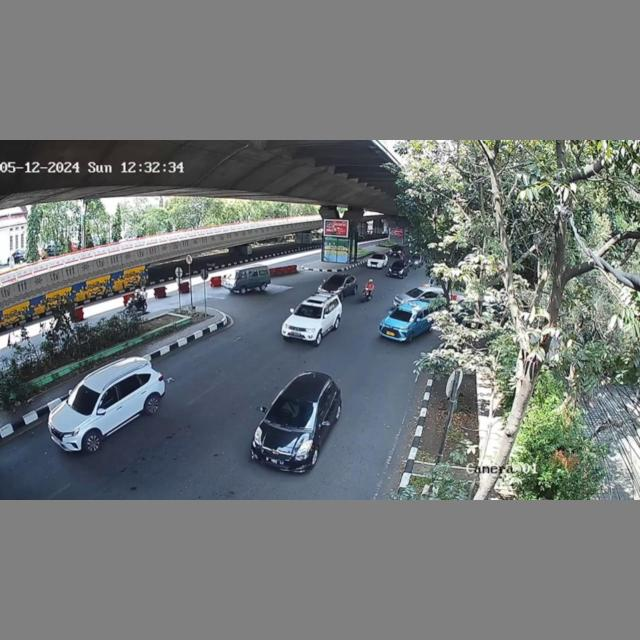windshield: (269, 394, 317, 429), (62, 381, 101, 412), (293, 302, 327, 320)
